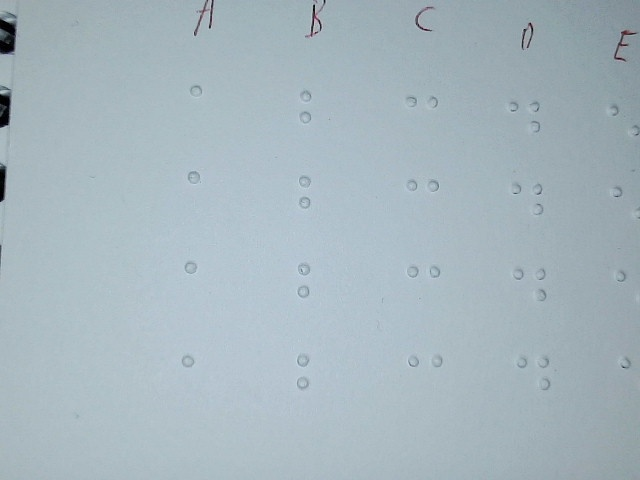A: (178, 253, 229, 324), (182, 78, 233, 149), (180, 162, 231, 233), (174, 346, 225, 417)
B: (291, 83, 339, 153), (291, 167, 339, 237), (290, 256, 338, 326), (289, 346, 337, 416)
